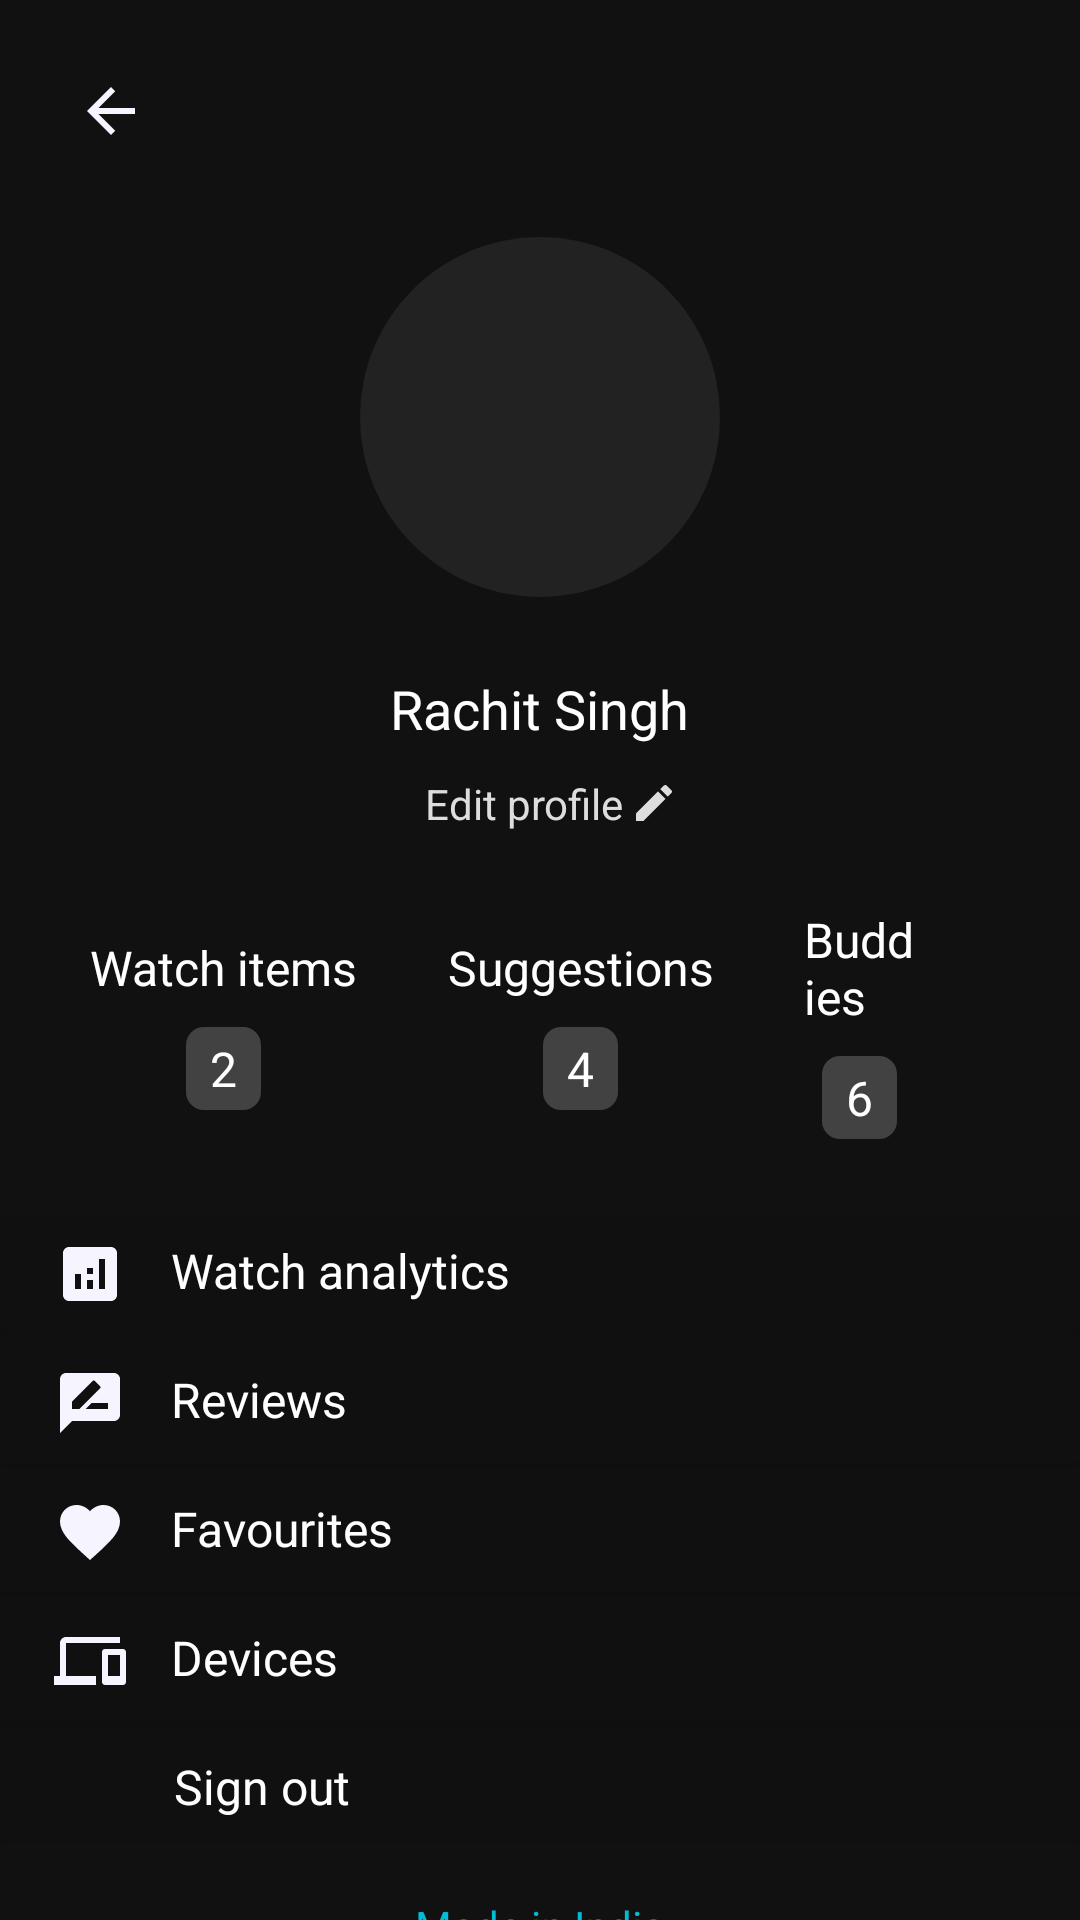

Icon click points for this 1080px x 1920px phone screenshot, format point (x, y):
back: point (111, 111)
